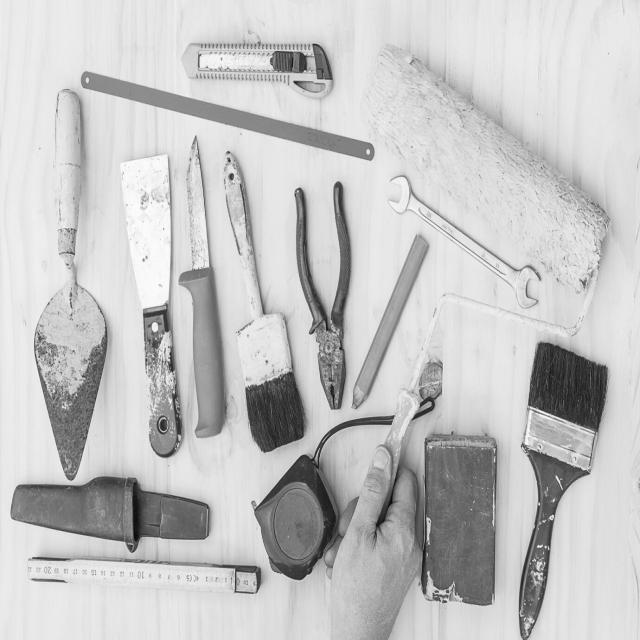brush: (512, 335, 618, 639), (210, 146, 310, 462)
measuring_tape: (248, 456, 348, 604)
paint_roller: (353, 23, 626, 531)
pencil: (355, 226, 429, 413)
pliers: (277, 176, 363, 423)
saw: (74, 60, 377, 174)
trowel: (18, 84, 117, 485), (102, 138, 200, 476)
utility_knife: (174, 13, 349, 116)
wrench: (380, 167, 558, 311)
